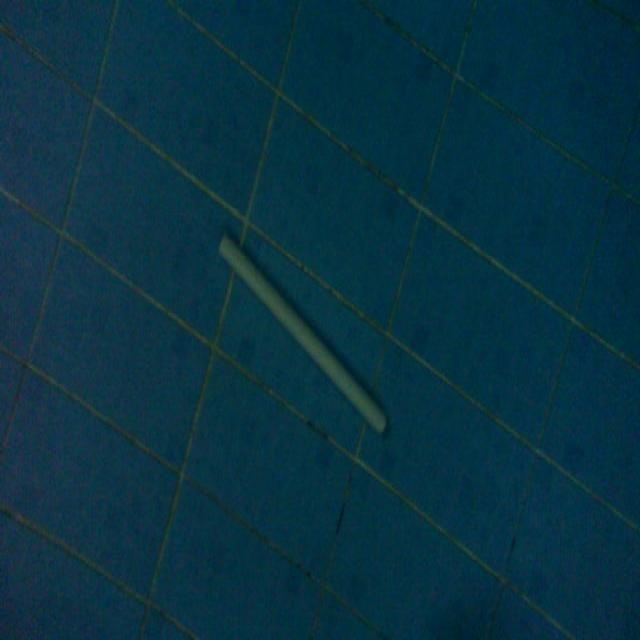Cube: (216, 226, 389, 439)
